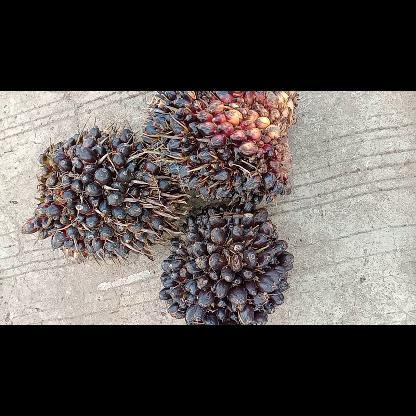TBS mentah: (19, 122, 191, 266), (138, 90, 302, 208), (158, 204, 296, 324)
